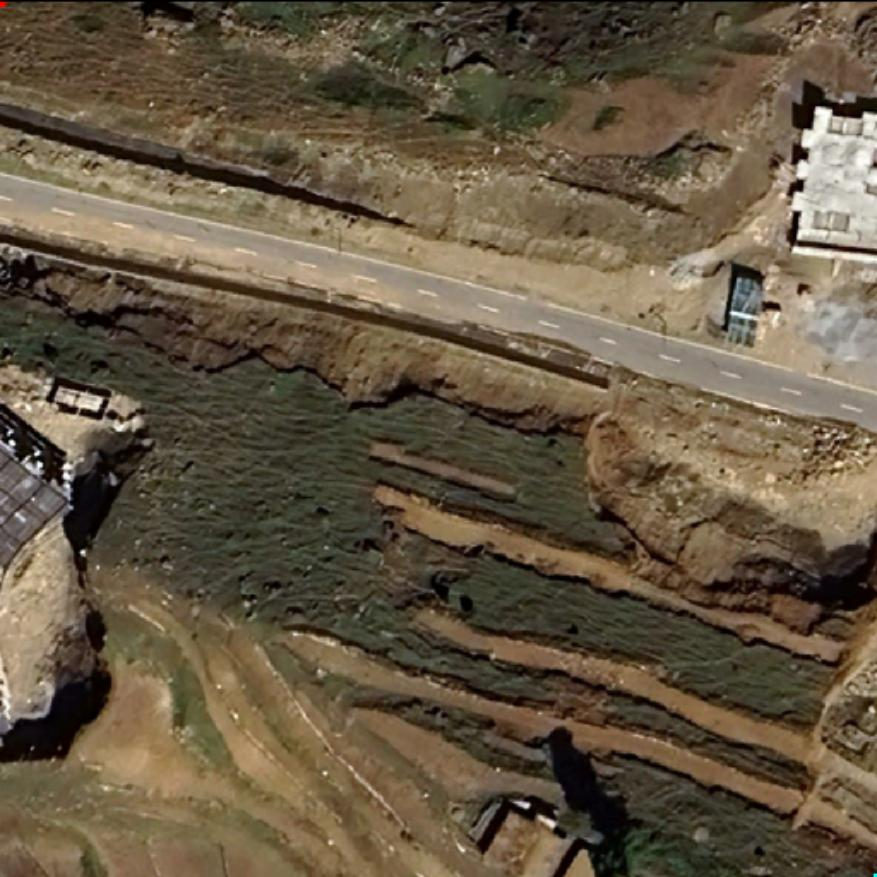Solarpanel: (720, 272, 768, 350)
